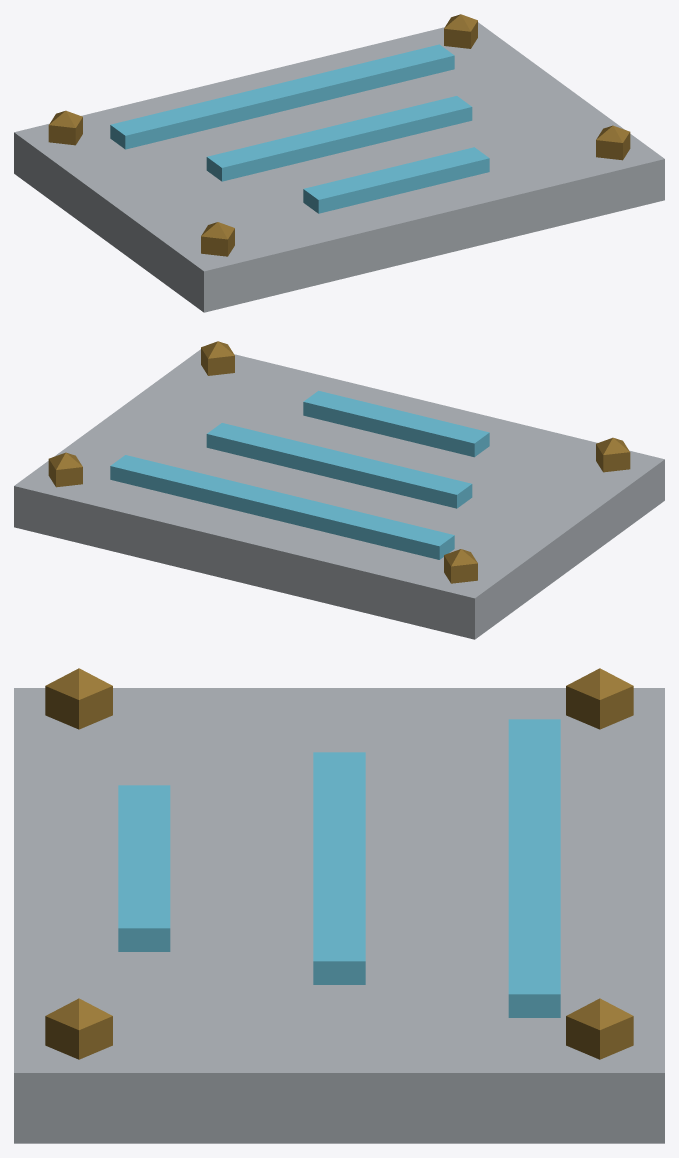
Rendered from mod-plate.glb.
The picture shows the model from 3 angles, top to bottom: view 1: azimuth 30°, elevation 25°; view 2: azimuth 150°, elevation 25°; view 3: azimuth 270°, elevation 25°; orthographic projection. The views are drawn at different scales.
Parts seen in each view (by area): view 1: m; view 2: m; view 3: m.
Boxes of the visible parts, box(x1,y1,x2,y2) form: m: box(14, 14, 664, 312); m: box(14, 341, 664, 639); m: box(14, 668, 664, 1143).
Bounding box in the file's own units: 0.07 × 0.01 × 0.05.
